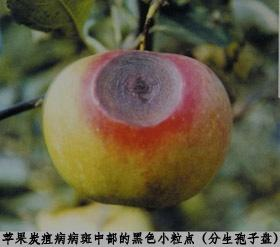rotten apple: (42, 48, 234, 207)
